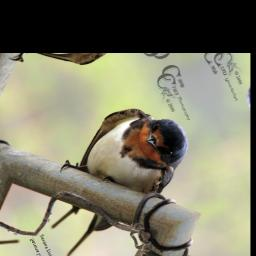Swallow: (17, 91, 215, 256)
